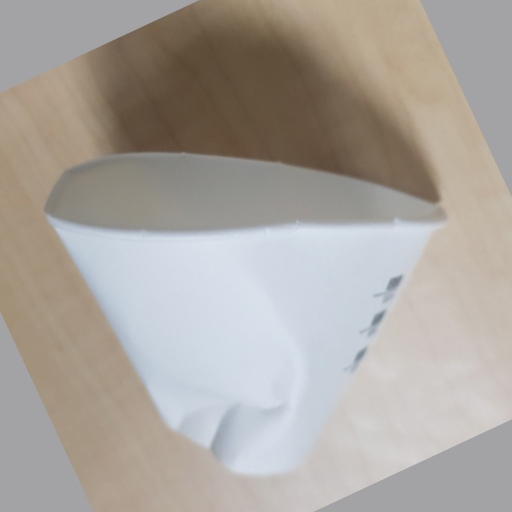Paper_1: (44, 151, 450, 473)
